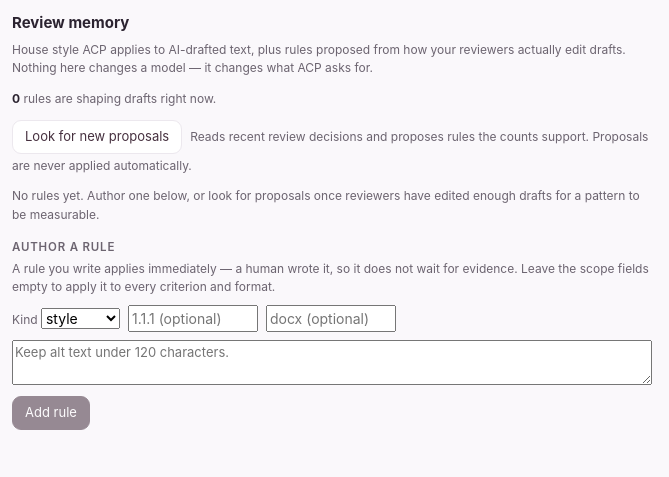
Test: decisions reach the backend and refetch rather than optimistically rendering › an empty derivation run is reported as a real answer, not as a failure
Click the button "Look for new proposals": [97, 137] box [12,120,182,154]
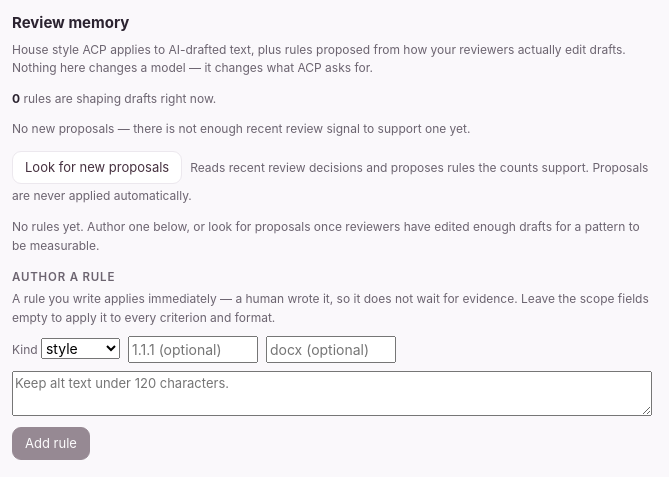
Expected: the text "not enough recent review signal" is shown, [12,121,470,136]
